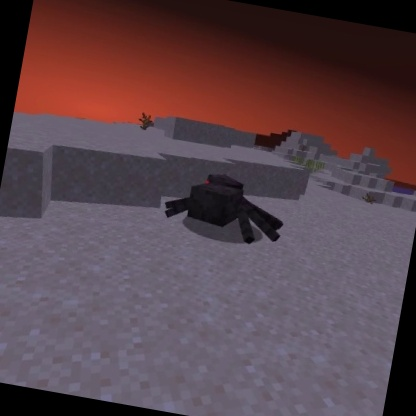spider: (155, 161, 296, 255)
